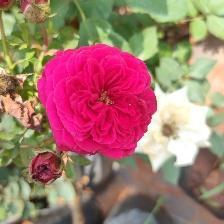rose: (39, 44, 161, 161)
